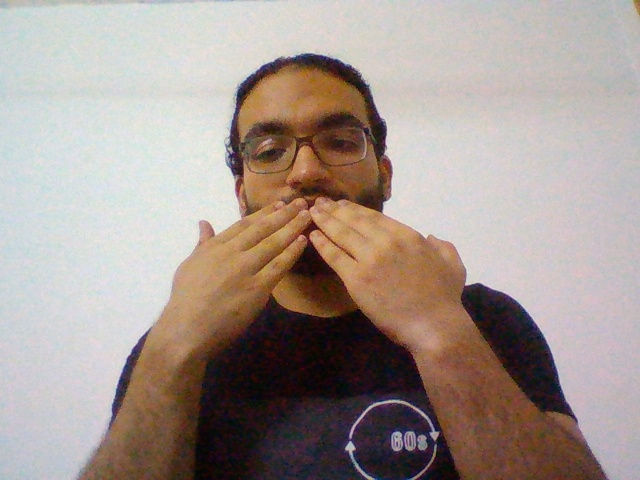Thanks: (131, 194, 492, 365)
